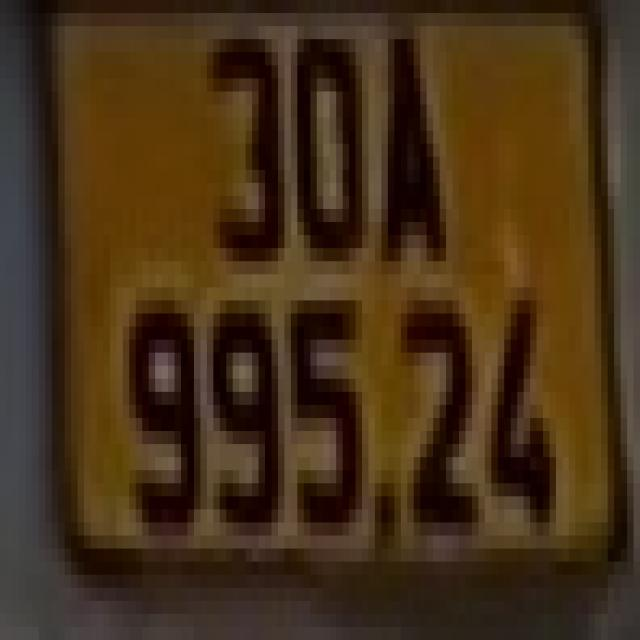0: (291, 26, 368, 261)
2: (394, 288, 478, 536)
3: (207, 26, 284, 261)
4: (485, 274, 562, 536)
5: (291, 288, 368, 536)
9: (123, 288, 200, 536), (207, 288, 278, 536)
A: (375, 26, 459, 274)
